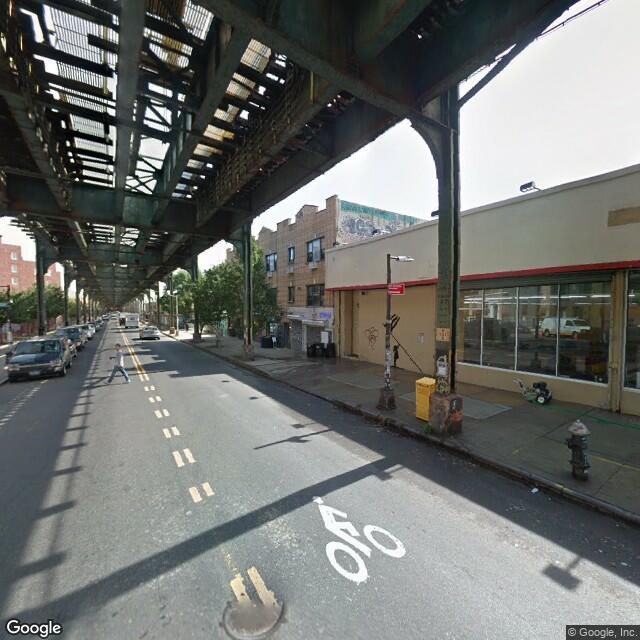litter: (510, 378, 557, 411), (528, 484, 547, 501)
